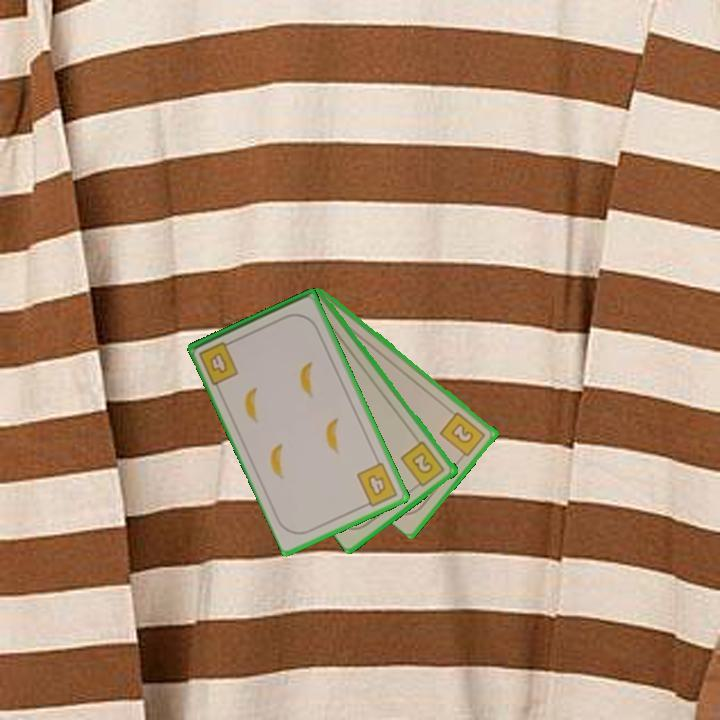2b: (437, 408, 489, 463), (397, 438, 448, 492)
4b: (353, 459, 401, 510), (195, 337, 242, 387)
